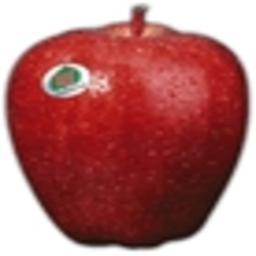apple: (2, 20, 247, 248)
